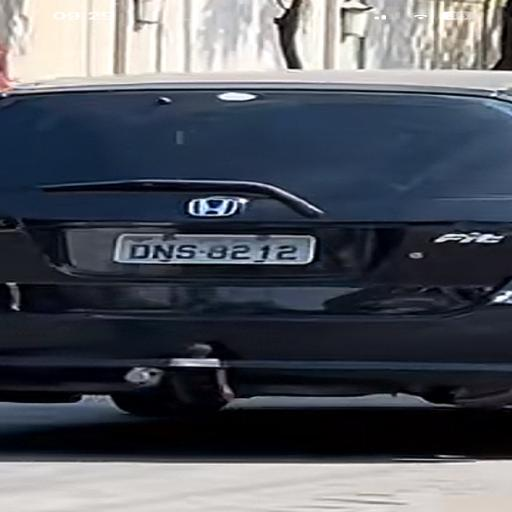detec-o-placas: (50, 180, 380, 294)
